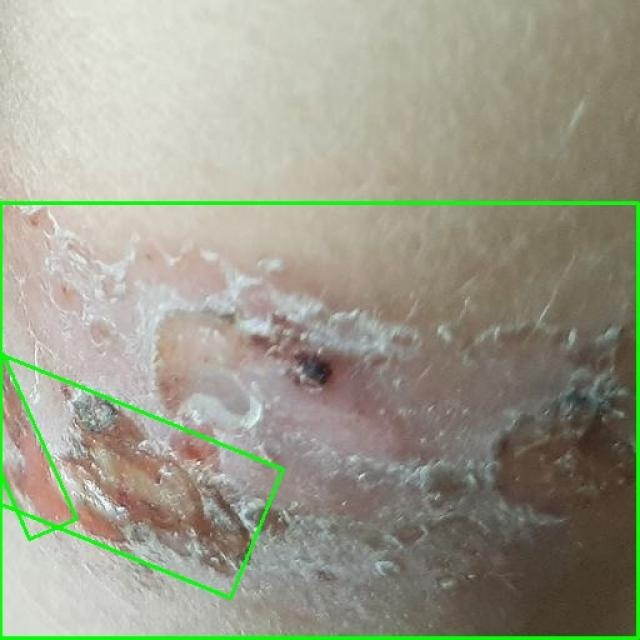Contact Dermatitis: (0, 204, 639, 639), (0, 333, 293, 599), (0, 347, 79, 540)
